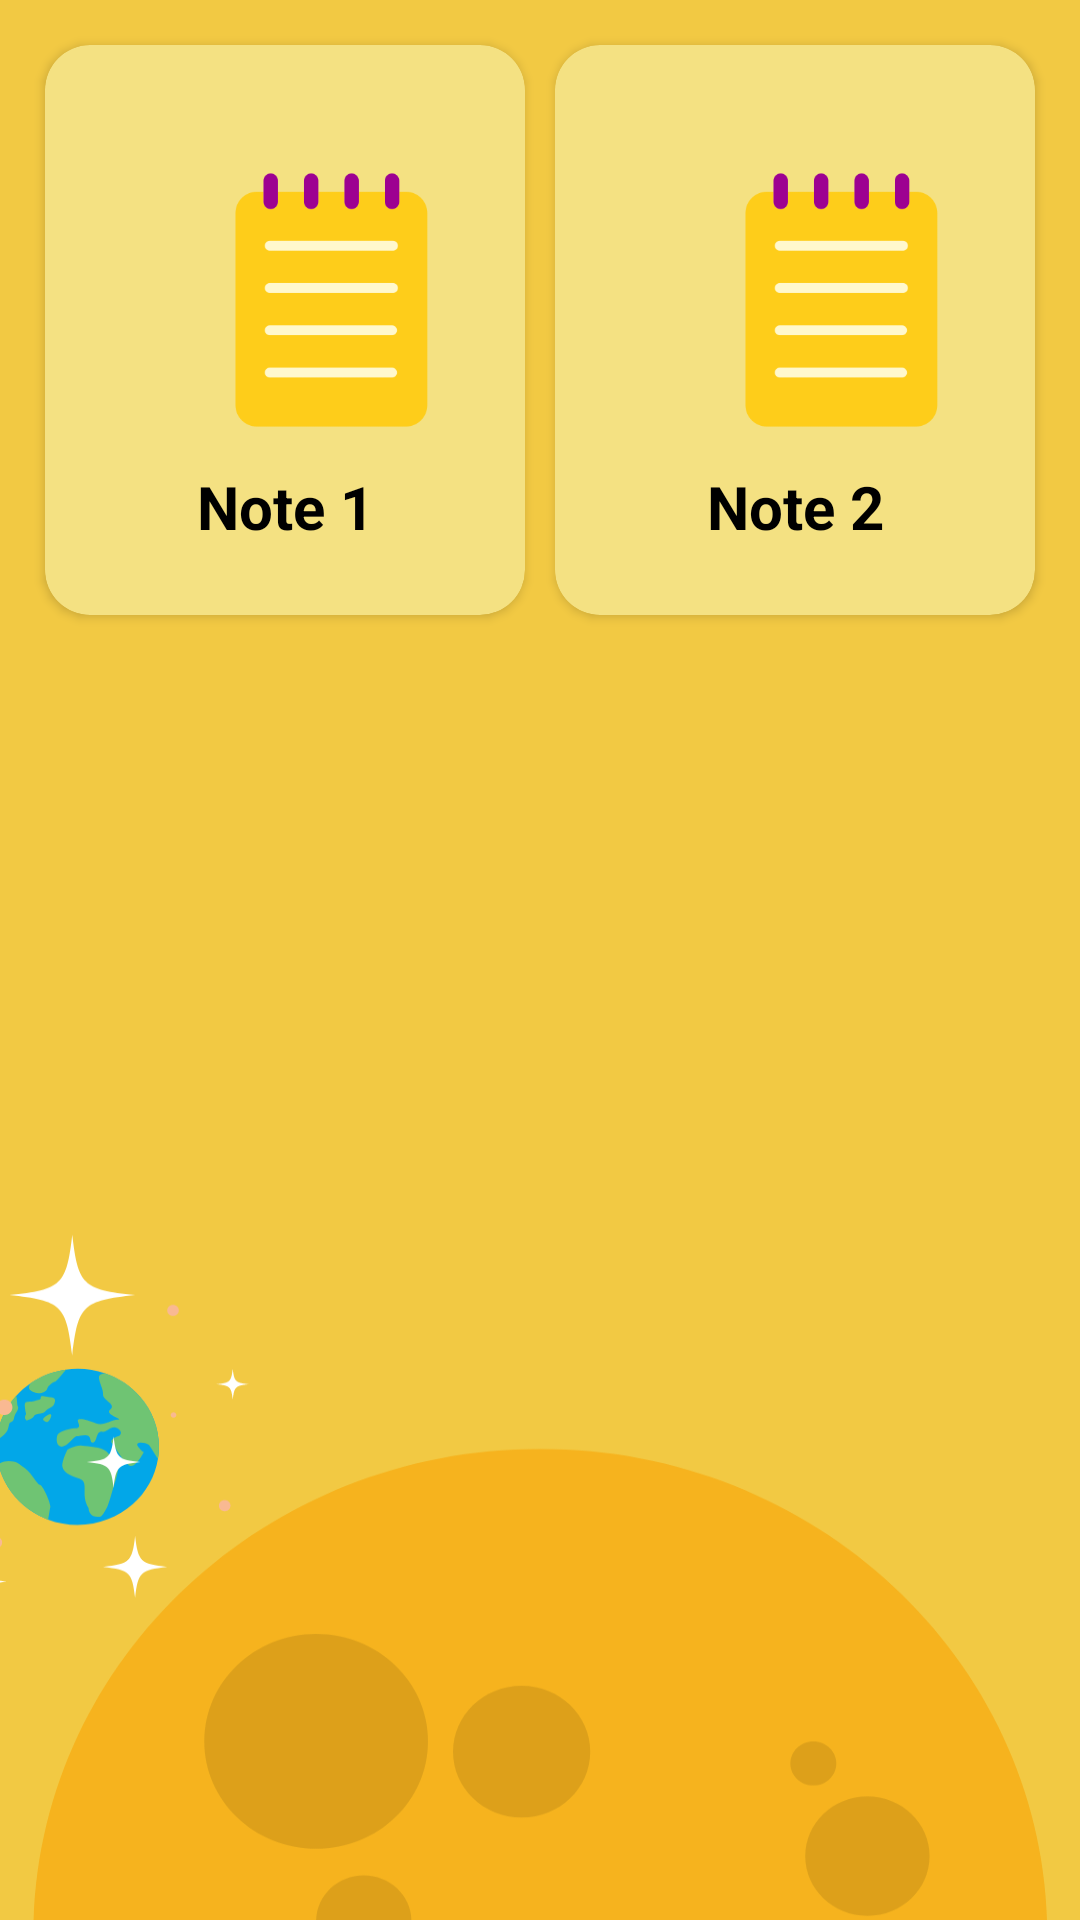

Named icons in this screenshot (1080px×1920px) and their centers, [x,y]:
journal: [331,300], [841,300]
